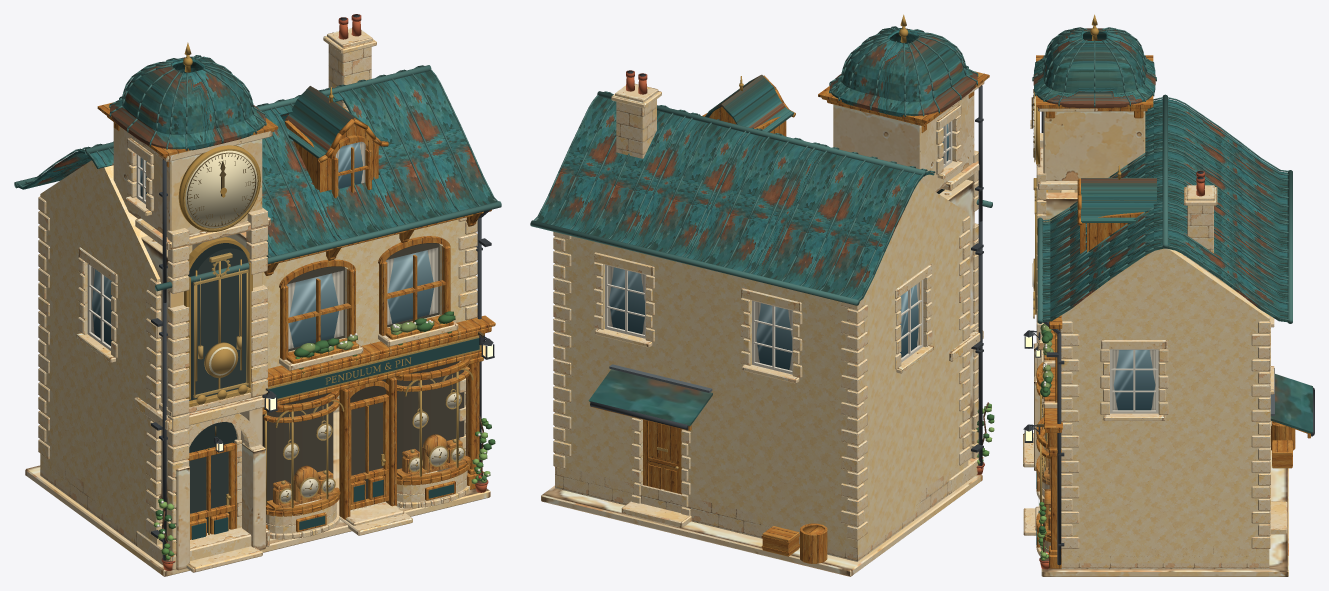
3 views of the same model, side by side, from view 1: azimuth 30°, elevation 25°; view 2: azimuth 150°, elevation 25°; view 3: azimuth 270°, elevation 25° (orthographic). The views are drawn at different scales.
Visible parts, largest first — view 1: refined_frontage_structure, refined_structure_roof, seaside_stone, seaside_plaster, refined_structure_structure, clock_recess, refined_frontage_dial_details, refined_frontage_glass_backing_panes, seaside_stone.002, clock_cream, clock_brass, door_leaf_clockmaker (+9 smaller); view 2: refined_structure_roof, refined_frontage_structure, seaside_stone, seaside_plaster, seaside_stone.002, seaside_timber, house_window_pane, house_paint, refined_structure_structure, seaside_stone.001, tower_side_window, house_window_pane.001 (+2 smaller); view 3: seaside_plaster, refined_structure_roof, seaside_stone, refined_frontage_structure, seaside_stone.002, refined_structure_structure, house_window_pane.001, seaside_stone.001, seaside_timber, house_paint.001, refined_frontage_dial_details, house_paint (+1 smaller).
Boxes of the visible parts, box(x1,y1,x2,y2) form: refined_frontage_structure: box(154, 236, 495, 570); refined_structure_roof: box(14, 55, 501, 291); seaside_stone: box(38, 28, 477, 572); seaside_plaster: box(40, 160, 475, 544); refined_structure_structure: box(97, 87, 491, 560); clock_recess: box(188, 243, 248, 532); refined_frontage_dial_details: box(183, 148, 484, 507); refined_frontage_glass_backing_panes: box(286, 247, 438, 349); seaside_stone.002: box(25, 412, 490, 576); clock_cream: box(185, 150, 257, 228); clock_brass: box(178, 42, 260, 534); door_leaf_clockmaker: box(350, 394, 388, 509); refined_structure_roof: box(530, 26, 992, 426); refined_frontage_structure: box(555, 236, 994, 554); seaside_stone: box(553, 82, 984, 561); seaside_plaster: box(857, 181, 968, 554); seaside_stone.002: box(541, 474, 982, 576); seaside_timber: box(590, 406, 827, 563); house_window_pane: box(608, 266, 792, 370); house_paint: box(590, 70, 792, 469); refined_structure_structure: box(702, 71, 989, 468); seaside_stone.001: box(895, 264, 933, 373); tower_side_window: box(936, 104, 962, 179); house_window_pane.001: box(900, 283, 918, 357); seaside_plaster: box(1061, 248, 1269, 563); refined_structure_roof: box(1032, 27, 1312, 433); seaside_stone: box(1023, 108, 1287, 569); refined_frontage_structure: box(1023, 319, 1269, 569); seaside_stone.002: box(1023, 450, 1288, 576); refined_structure_structure: box(1036, 55, 1153, 564); house_window_pane.001: box(1112, 254, 1186, 410); seaside_stone.001: box(1100, 340, 1168, 420); seaside_timber: box(1271, 421, 1310, 468); house_paint.001: box(1110, 349, 1158, 413); refined_frontage_dial_details: box(1033, 89, 1050, 526); house_paint: box(1196, 171, 1314, 436).
Bounding box in the file's own units: 8.04 × 11.11 × 6.61.
Materials: 17 (6 with a texture image).
